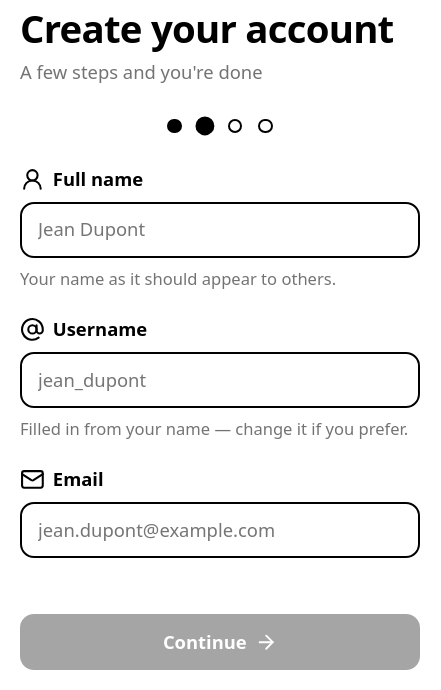
Test case: wizard flow › suggests a username from the full name and respects manual edits
The width and height of the screenshot is (441, 690).
Type "Éloi Fontaine" into the field labelled "Full name". click: point(220, 230)
box: left=20, top=202, right=420, bottom=258
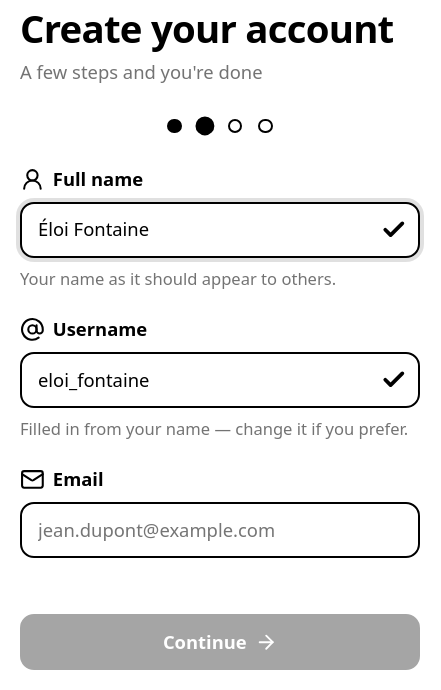
Expected: the field labelled "Username" holds "eloi_fontaine"
Manual entry wins and later name edits must not clobber it.
Replace the text in the field labelled "Username" with "custom-user". click: point(220, 380)
box: left=20, top=352, right=420, bottom=408
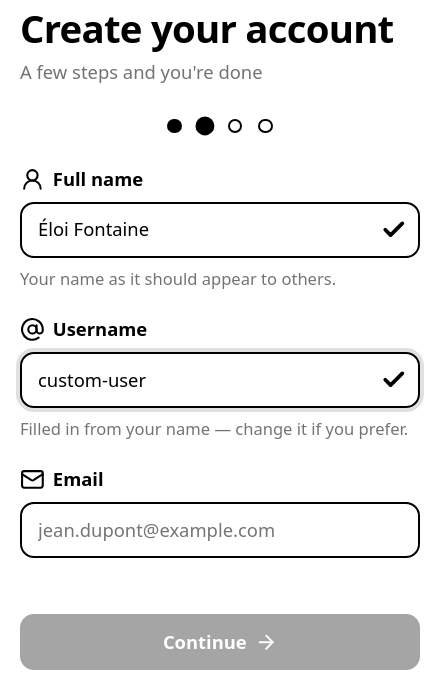
Type " Jr" into the field labelled "Full name". click: point(220, 230)
box: left=20, top=202, right=420, bottom=258
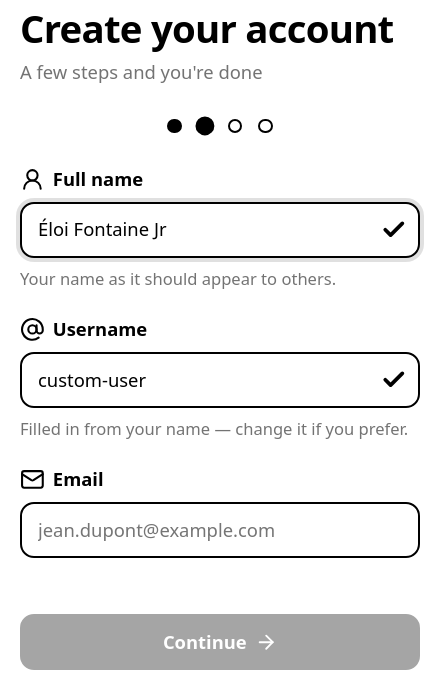
Clearing the username hands control back to the suggestion.
Clear the field labelled "Username". click: point(220, 380)
box: left=20, top=352, right=420, bottom=408
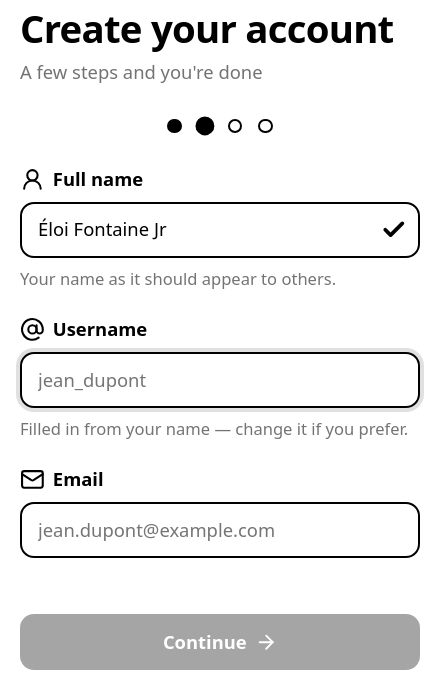
Type "." into the field labelled "Full name". click: point(220, 230)
box: left=20, top=202, right=420, bottom=258
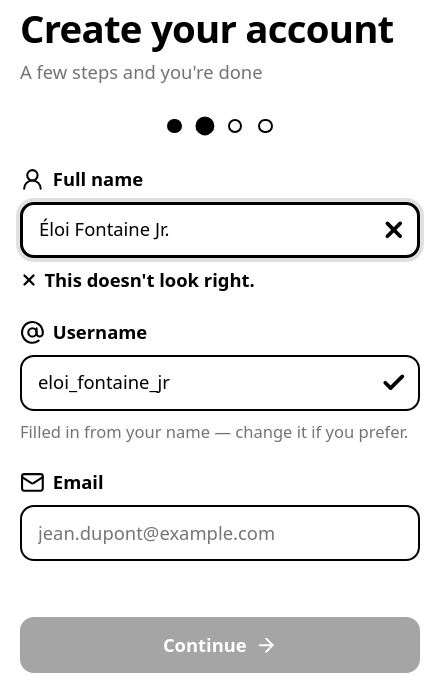
Expected: the field labelled "Username" holds "eloi_fontaine_jr", left=20, top=355, right=420, bottom=411
